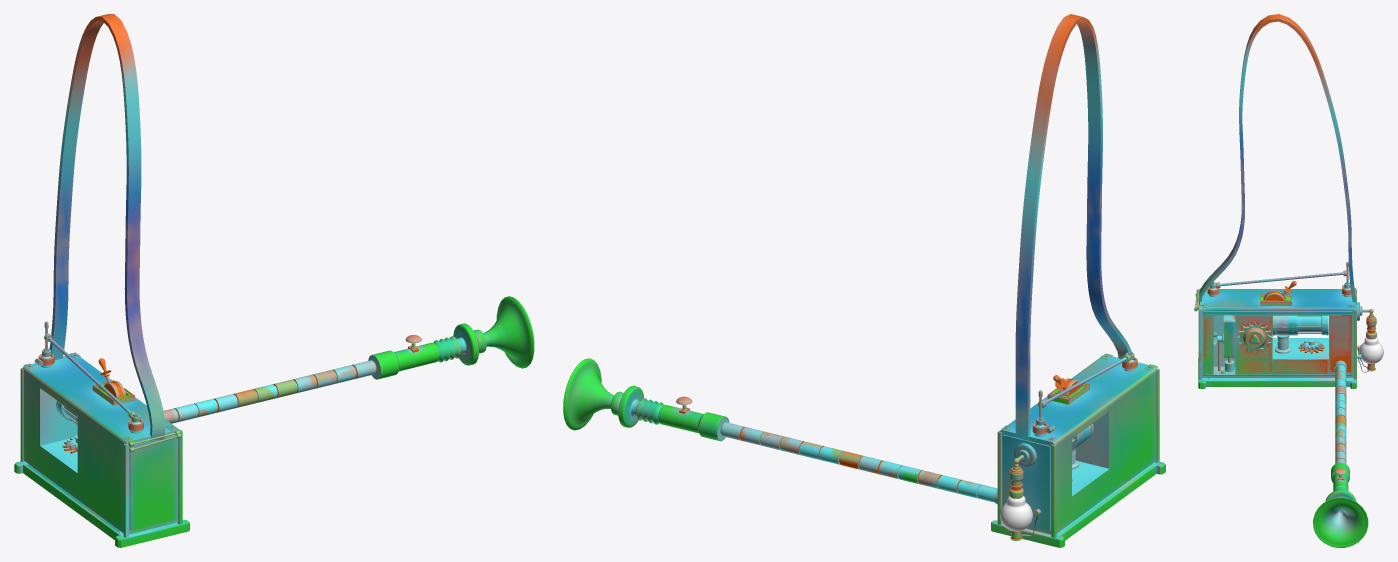
File: vacumn_rope.fbx
3 views of the same model, side by side, from view 1: azimuth 30°, elevation 25°; view 2: azimuth 150°, elevation 25°; view 3: azimuth 270°, elevation 25° (orthographic). The views are drawn at different scales.
Visible parts, largest first — view 1: vacumn, vacumn_90; view 2: vacumn, vacumn_90; view 3: vacumn, vacumn_90.
Part boxes in pixels (left/top/right/bottom): vacumn: left=14, top=14, right=189, bottom=547; vacumn_90: left=368, top=296, right=534, bottom=379; vacumn: left=991, top=14, right=1165, bottom=547; vacumn_90: left=563, top=358, right=729, bottom=441; vacumn: left=1194, top=14, right=1383, bottom=388; vacumn_90: left=1313, top=462, right=1368, bottom=547.
Size of the model in its own units: 7.81 by 7.42 by 3.47.
